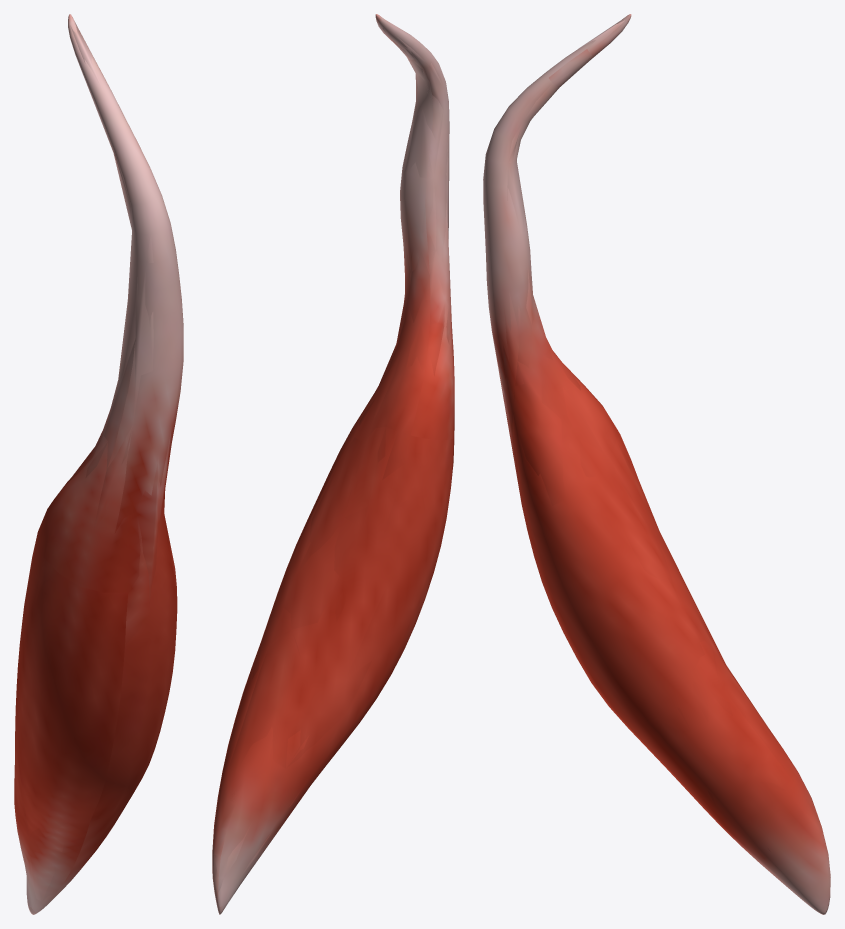
Rendered from R Biceps Brachii.fbx.
The picture shows the model from 3 angles, left to right: view 1: azimuth 30°, elevation 25°; view 2: azimuth 150°, elevation 25°; view 3: azimuth 270°, elevation 25°; orthographic projection. The views are drawn at different scales.
Parts seen in each view (by area): view 1: R Biceps Brachii, R Biceps Brachii low; view 2: R Biceps Brachii, R Biceps Brachii low; view 3: R Biceps Brachii, R Biceps Brachii low.
Boxes of the visible parts, <box> form: R Biceps Brachii: <box>14,14,183,914</box>; R Biceps Brachii low: <box>14,23,171,909</box>; R Biceps Brachii: <box>212,14,454,914</box>; R Biceps Brachii low: <box>214,19,452,906</box>; R Biceps Brachii: <box>483,14,830,914</box>; R Biceps Brachii low: <box>493,17,809,851</box>.
Size of the model in its own units: 7.46 by 43.14 by 15.63.
